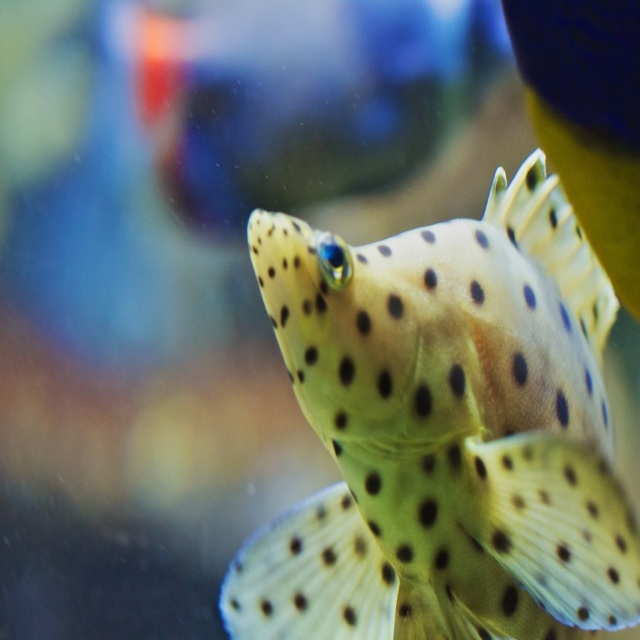Fish: (253, 155, 636, 640)
